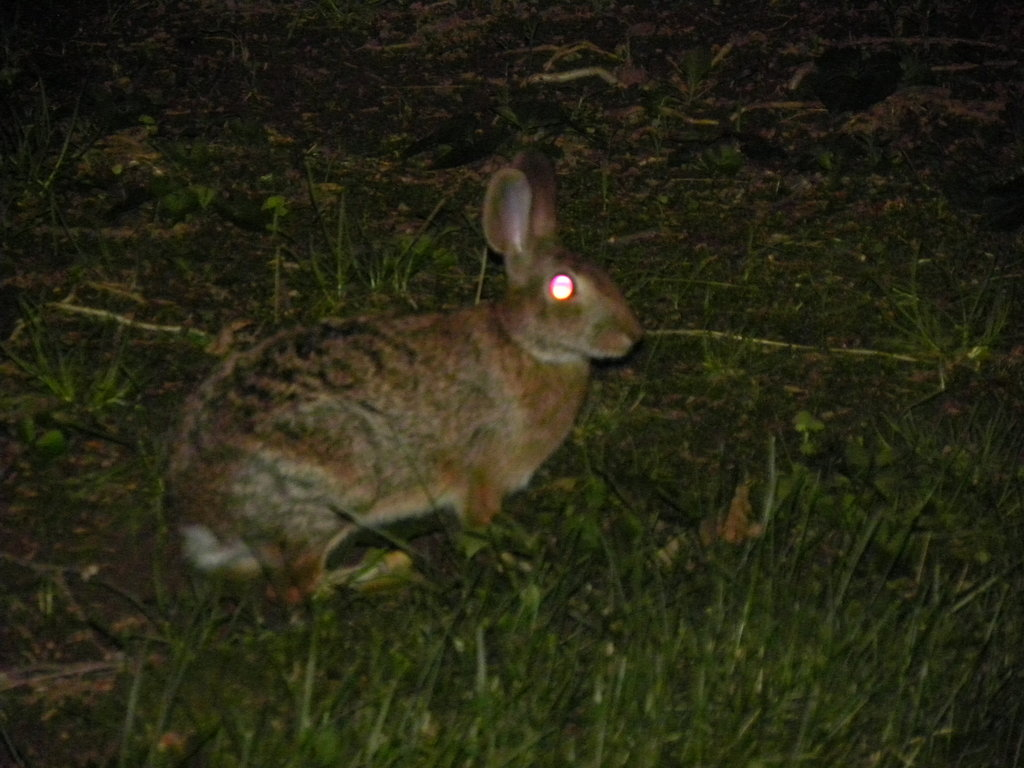bunny: (127, 142, 671, 607)
